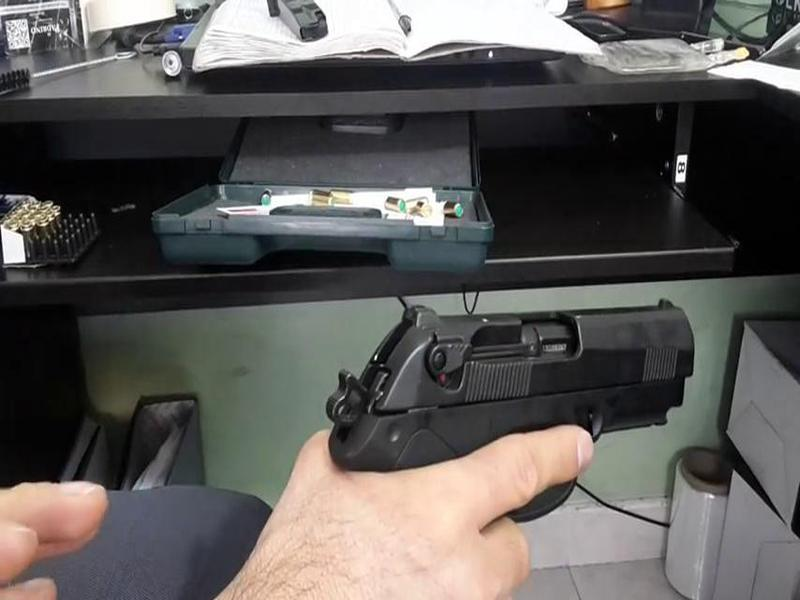Pistola: (313, 285, 713, 514)
